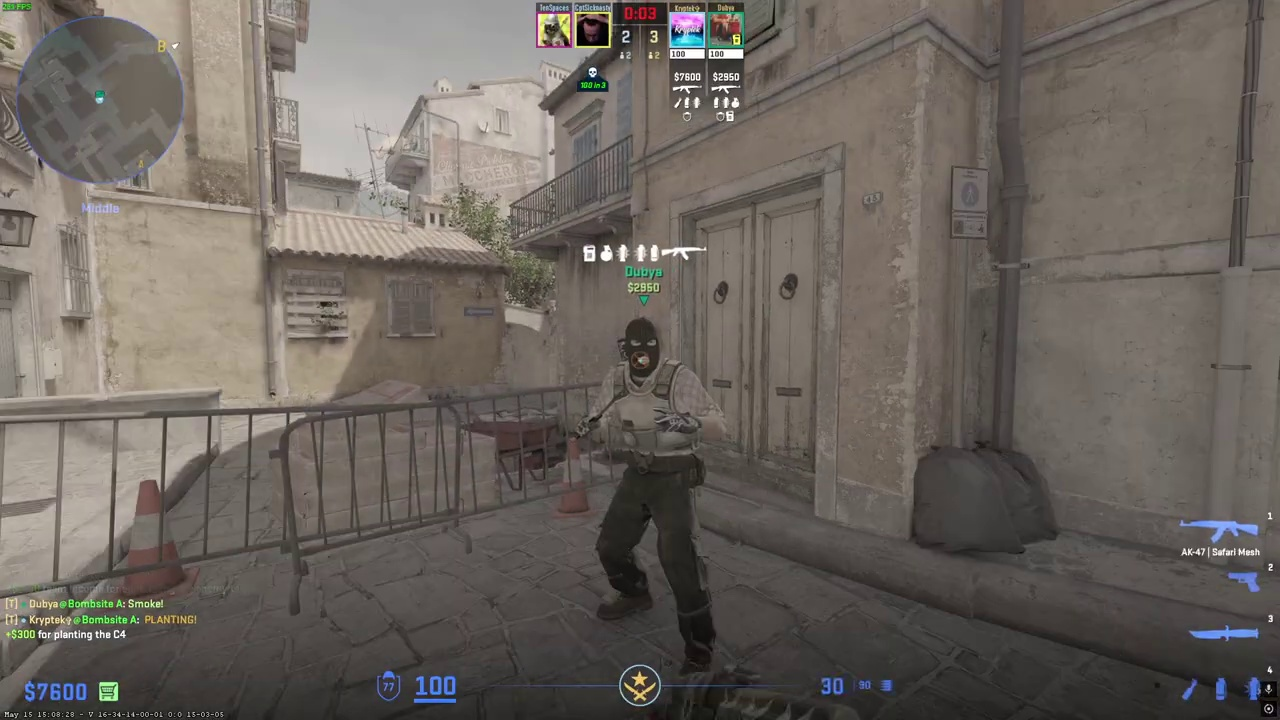Terrorist: (583, 315, 727, 679)
